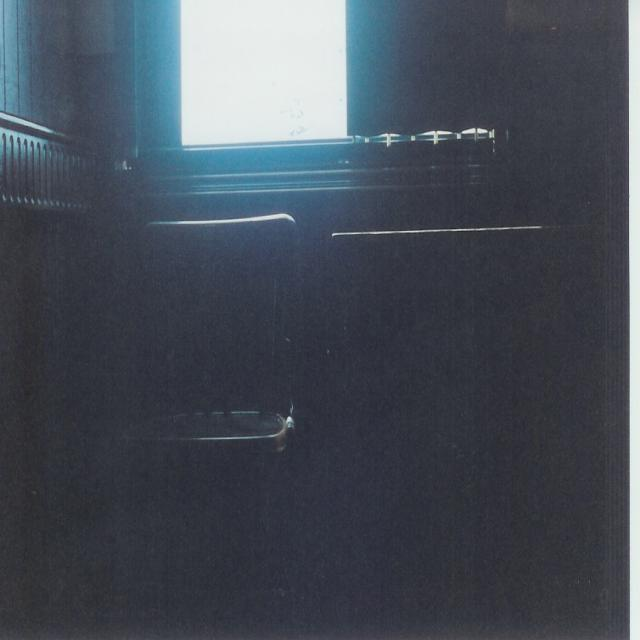Table: (65, 86, 640, 640)
chair: (76, 200, 309, 578)
